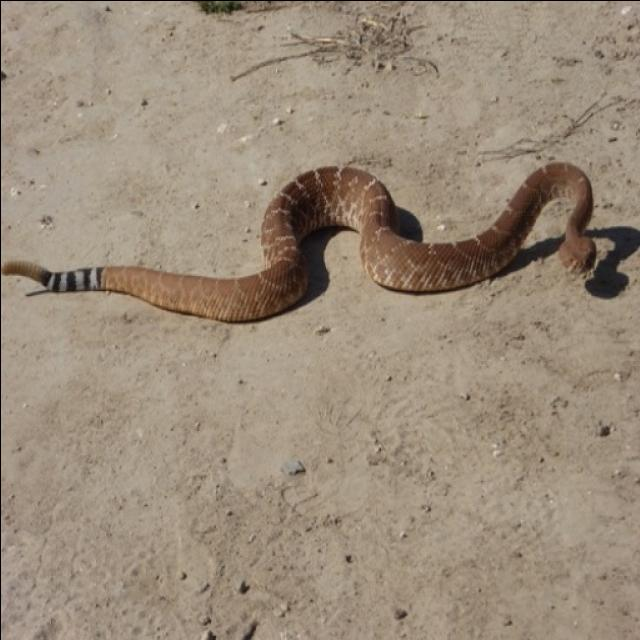snake: (0, 151, 605, 340)
